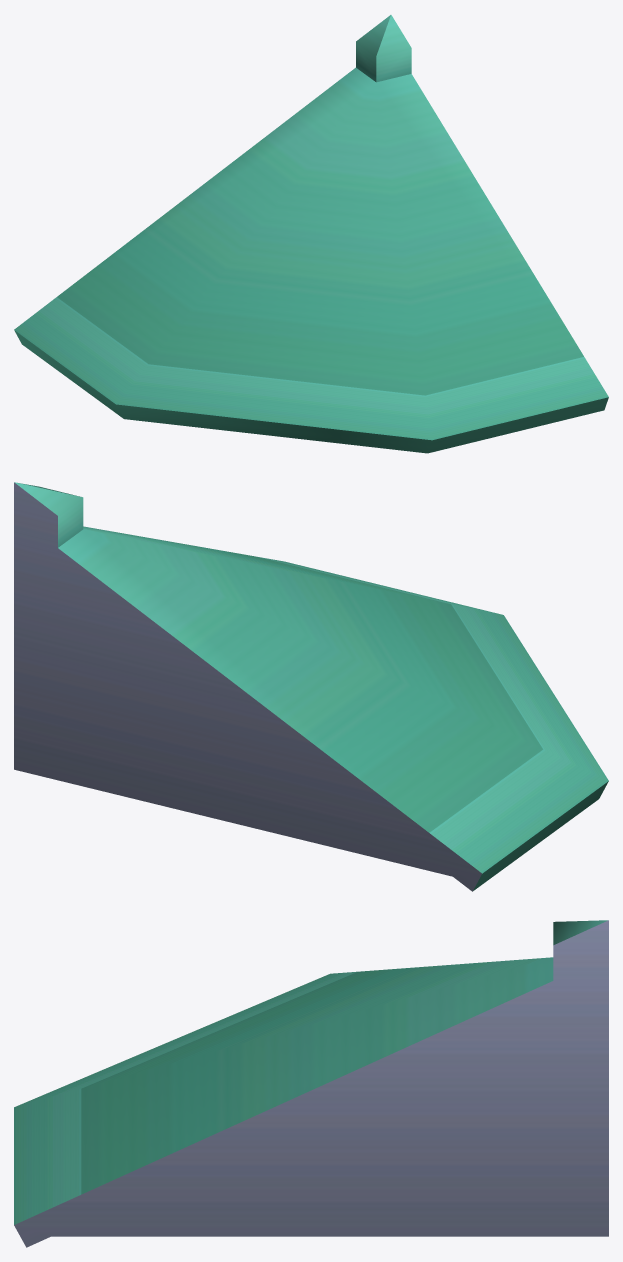
The model's file is roof-corner-round.glb.
The picture shows the model from 3 angles, top to bottom: view 1: azimuth 30°, elevation 25°; view 2: azimuth 150°, elevation 25°; view 3: azimuth 270°, elevation 25°; orthographic projection. The views are drawn at different scales.
Parts seen in each view (by area): view 1: roof-corner-round; view 2: roof-corner-round; view 3: roof-corner-round.
Boxes of the visible parts, x1,y1,x2,y2 form: roof-corner-round: (14, 15, 608, 453); roof-corner-round: (14, 482, 608, 891); roof-corner-round: (14, 920, 608, 1247).
Bounding box in the file's own units: 1.07 × 0.6483 × 1.07.
Materials: 1 (1 with a texture image).
